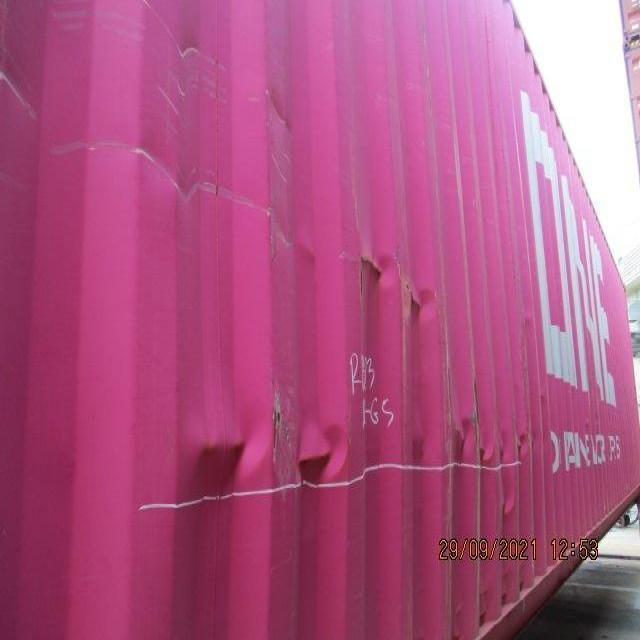dent: (173, 358, 548, 529), (339, 228, 450, 340)
